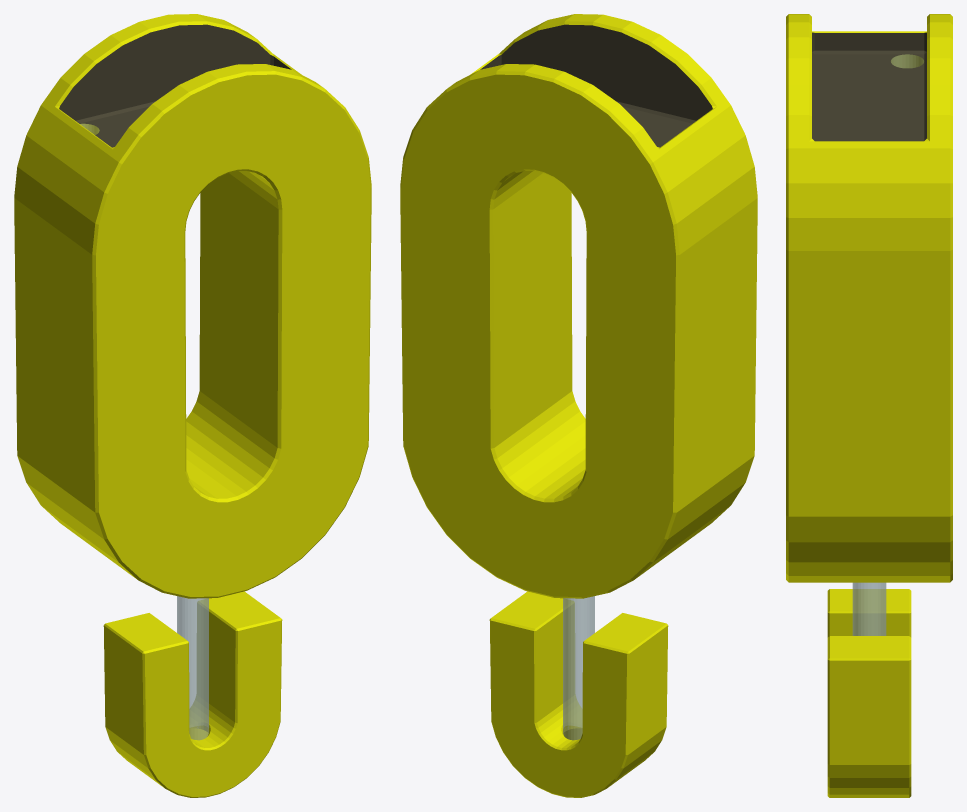
Rendered from obita_base_Vb_0.6.glb.
The picture shows the model from 3 angles, left to right: view 1: azimuth 30°, elevation 25°; view 2: azimuth 150°, elevation 25°; view 3: azimuth 270°, elevation 25°; orthographic projection. The views are drawn at different scales.
Parts seen in each view (by area): view 1: O, u, club, lift; view 2: O, u, club, lift; view 3: O, u, club, lift, lift2.
Part boxes in pixels (box(x1,y1,x2,y2)): O: box(14, 14, 371, 598); u: box(103, 591, 282, 797); club: box(59, 24, 291, 147); lift: box(177, 596, 208, 740); O: box(400, 14, 757, 598); u: box(489, 591, 668, 797); club: box(480, 24, 712, 147); lift: box(563, 596, 594, 740); O: box(786, 14, 952, 582); u: box(827, 589, 911, 797); club: box(812, 32, 926, 141); lift: box(852, 582, 886, 635); lift2: box(891, 54, 923, 68).
Size of what is drawn, in the model's own units: 33.63 by 84.45 by 16.81.
